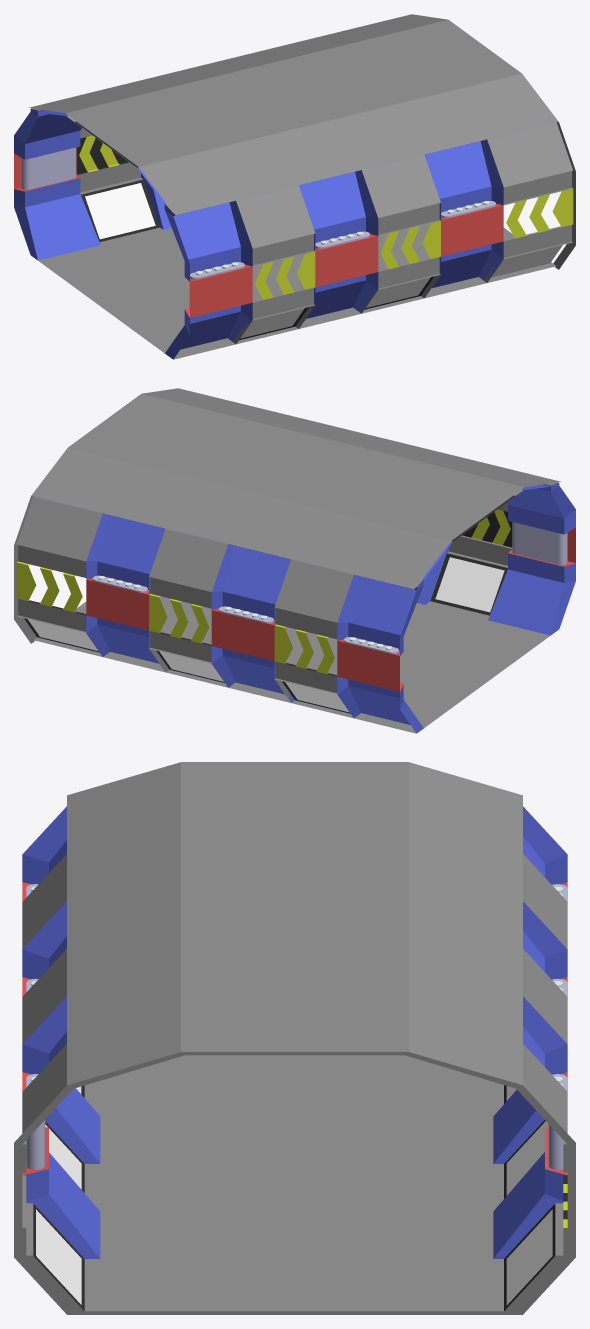
File: tunnel1.fbx
3 views of the same model, one above another, from view 1: azimuth 30°, elevation 25°; view 2: azimuth 150°, elevation 25°; view 3: azimuth 270°, elevation 25° (orthographic). The views are drawn at different scales.
Visible parts, largest first — view 1: Cube, Cilindro, Cilindro.001; view 2: Cube, Cilindro, Cilindro.001; view 3: Cube, Cilindro.
Boxes of the visible parts, x1,y1,x2,y2 form: Cube: (14, 14, 575, 359); Cilindro: (21, 147, 495, 310); Cilindro.001: (196, 201, 489, 275); Cube: (14, 388, 575, 733); Cilindro: (93, 522, 567, 653); Cilindro.001: (98, 576, 392, 650); Cube: (14, 762, 575, 1314); Cilindro: (26, 884, 567, 1169).
Size of the model in its own units: 1354 by 572 by 1109.
